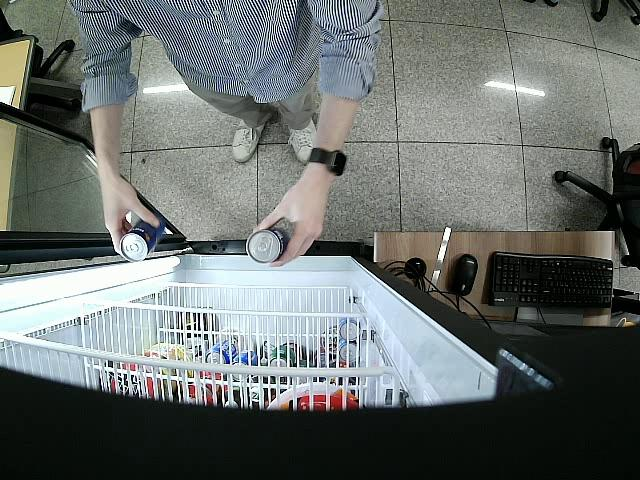00_hand: (253, 188, 328, 269), (101, 174, 160, 261)
16_hot6: (121, 212, 166, 262), (245, 228, 288, 263)
